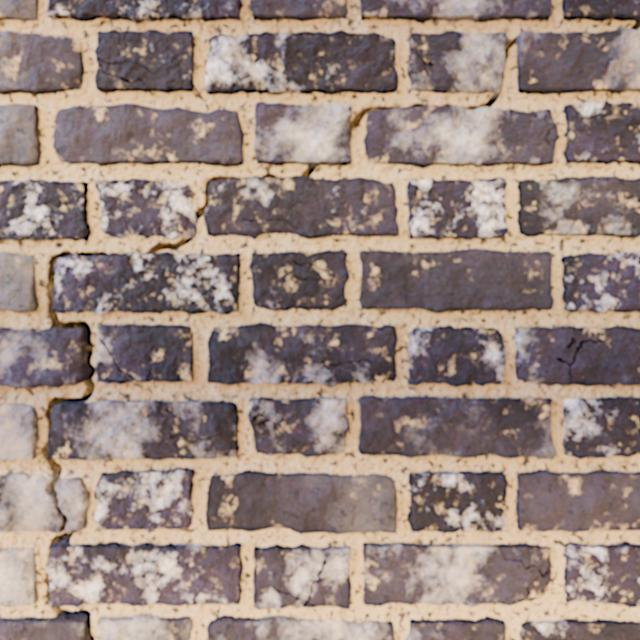broken_brick: (0, 472, 63, 533), (56, 477, 89, 532)
crack: (0, 0, 639, 639), (359, 248, 553, 312), (205, 31, 398, 95), (358, 396, 556, 458), (206, 470, 397, 534), (363, 542, 551, 607), (207, 323, 397, 387), (53, 103, 243, 165), (516, 469, 639, 532), (517, 176, 639, 237), (515, 326, 639, 386), (94, 468, 194, 532), (253, 544, 351, 609), (407, 177, 508, 239), (95, 29, 194, 92), (407, 471, 507, 532), (249, 250, 349, 310), (248, 397, 349, 456), (408, 326, 505, 386), (0, 179, 90, 240), (0, 31, 84, 95), (563, 542, 639, 607), (563, 101, 639, 164), (562, 397, 639, 459), (561, 251, 639, 312), (207, 615, 394, 639), (46, 0, 242, 22), (360, 0, 551, 22), (0, 104, 40, 166), (519, 619, 639, 639), (97, 614, 193, 639), (0, 547, 38, 607), (0, 252, 38, 312), (406, 616, 505, 639), (0, 404, 38, 460), (250, 0, 347, 20), (0, 0, 38, 21)
